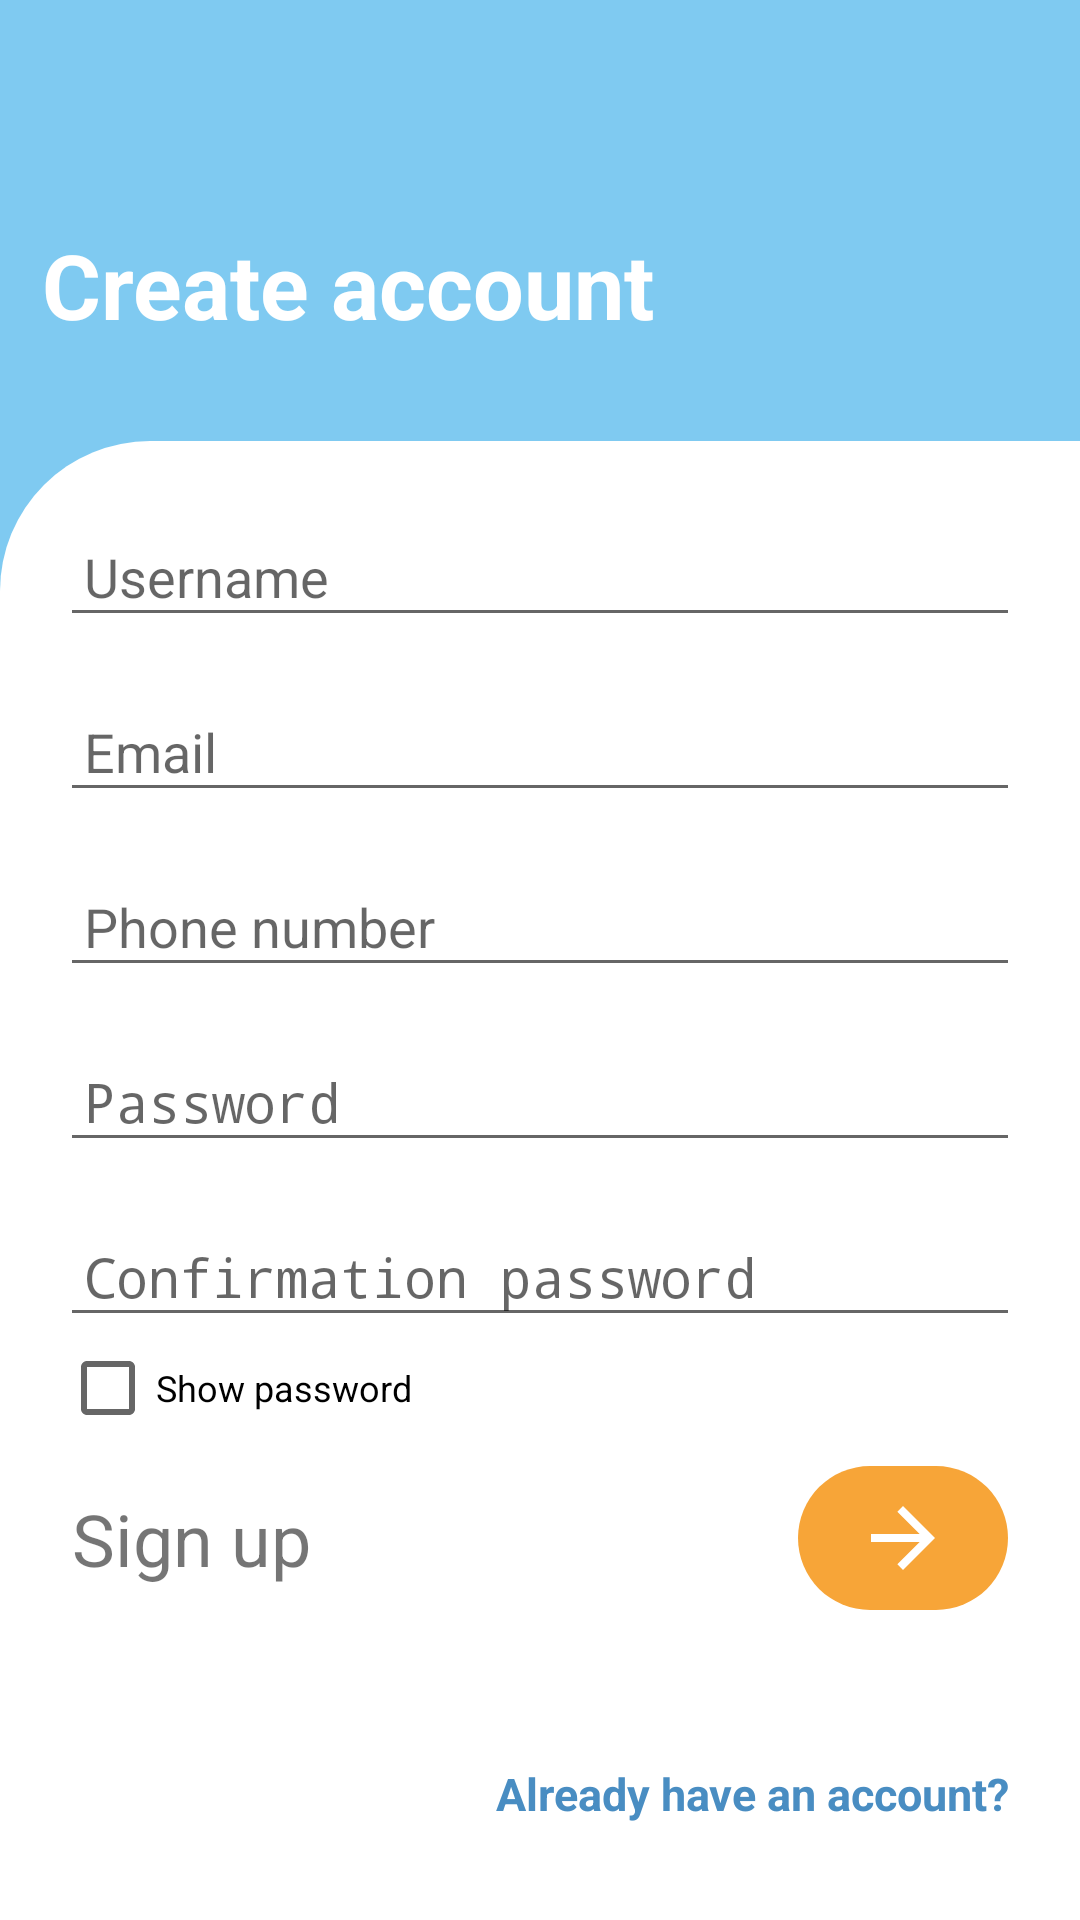

Icon bounding boxes for this 1080px×1920px phone screenshot, format (x1, y1, x2, y2):
arrow: (798, 1466, 1008, 1610)
